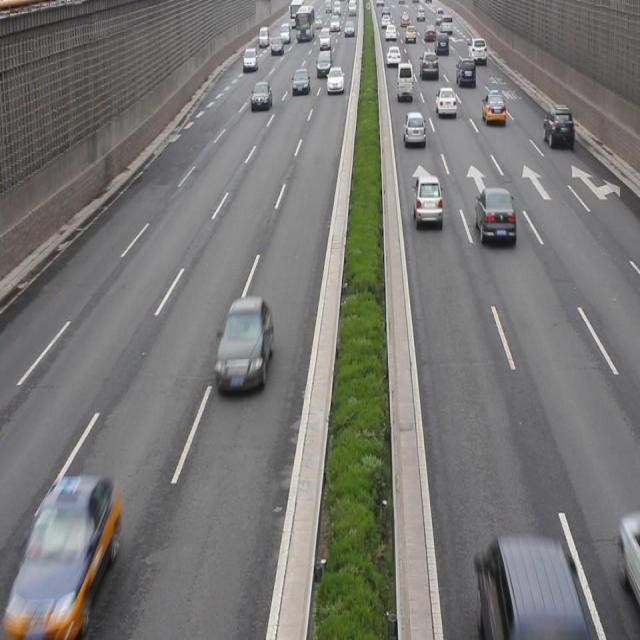car: (20, 478, 120, 612), (216, 298, 272, 394), (473, 189, 515, 247), (412, 175, 441, 232), (542, 106, 572, 148), (402, 114, 426, 149)
truck: (477, 538, 582, 634)
